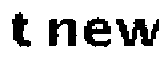e: (82, 18, 113, 48)
n: (44, 15, 78, 50)
t: (8, 10, 33, 49)
w: (115, 15, 160, 49)
